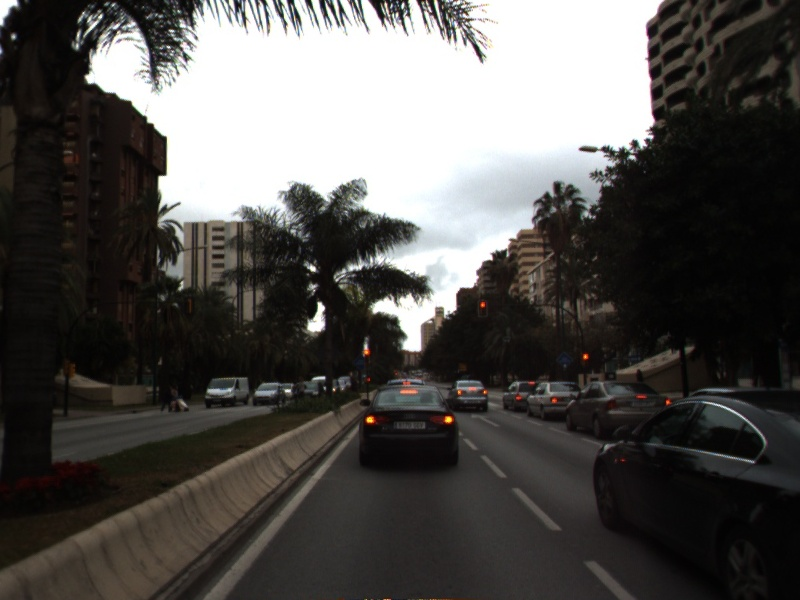STRAIGHT: (469, 410, 503, 429)
